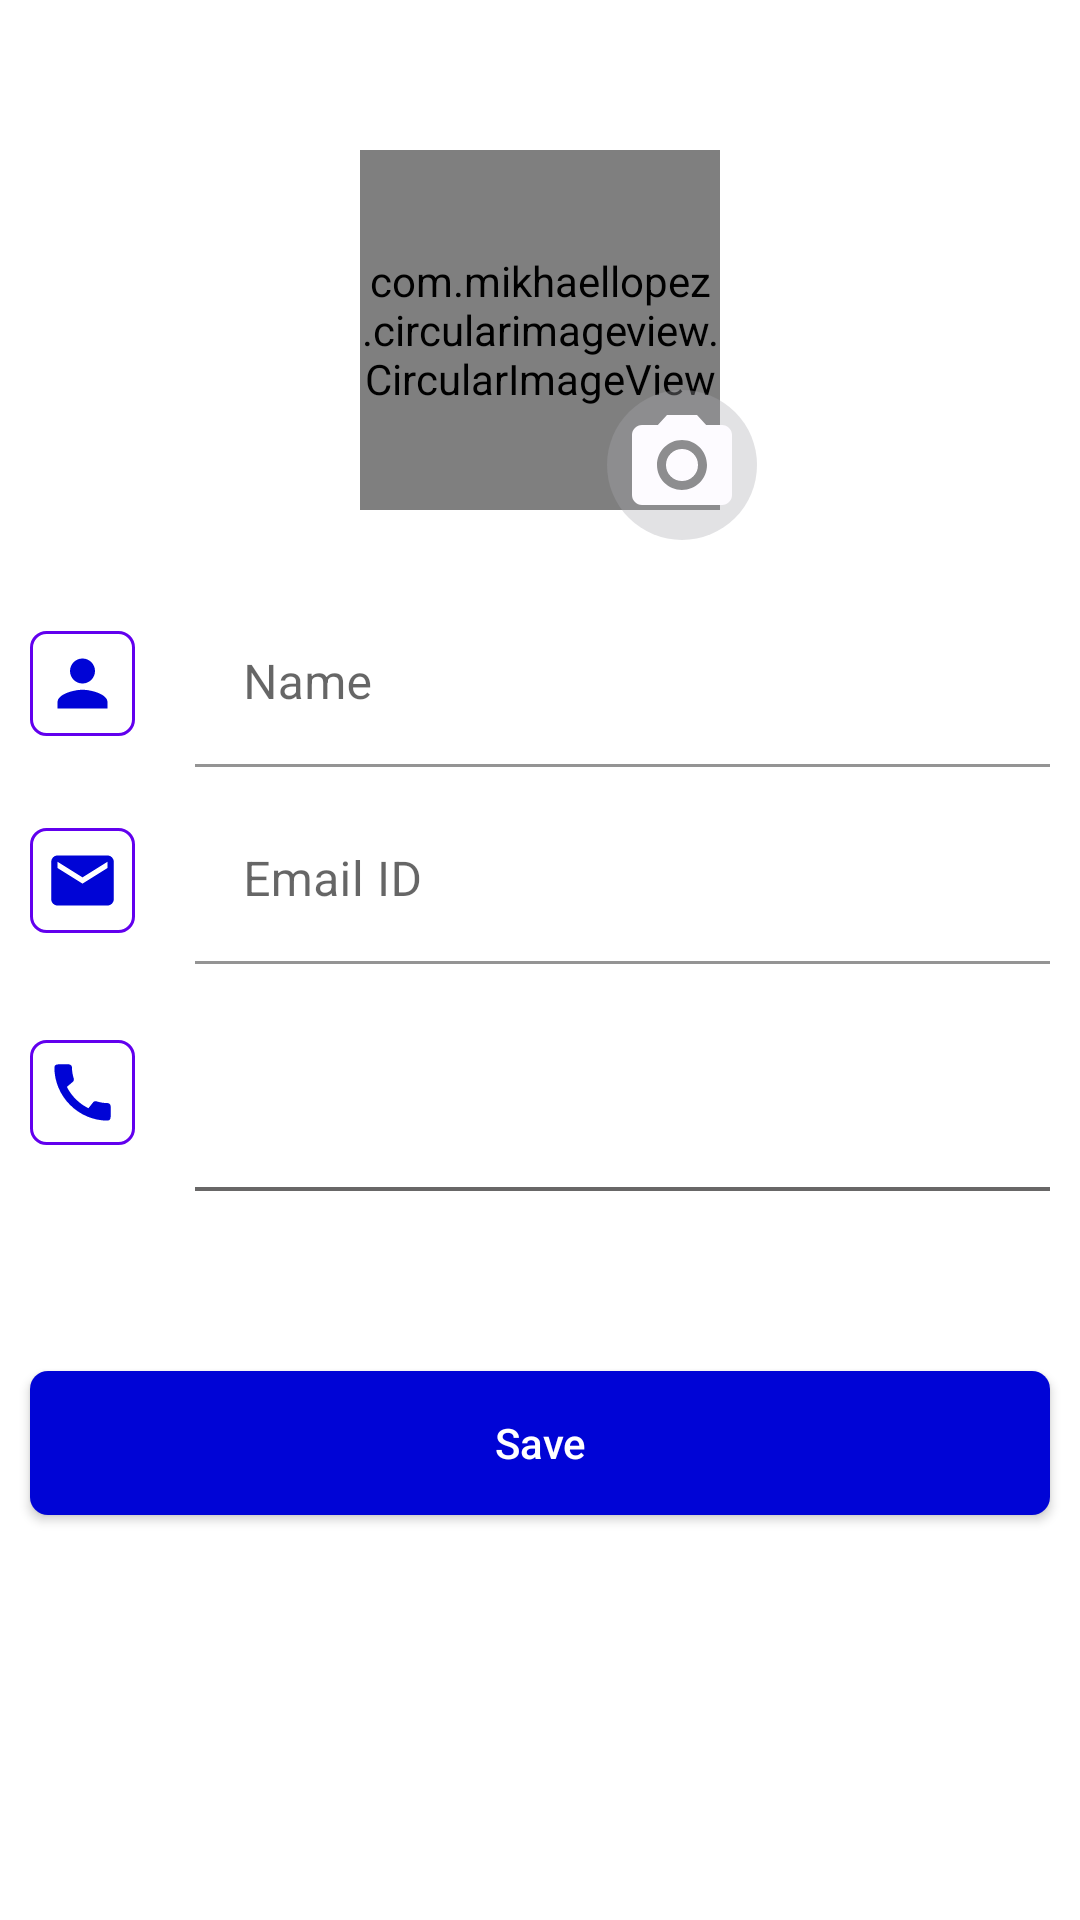

Icon click points for this 1080x1920 phone screenshot, format [x,y]:
call: [82,1092]
camera: [682,465]
person: [82,683]
